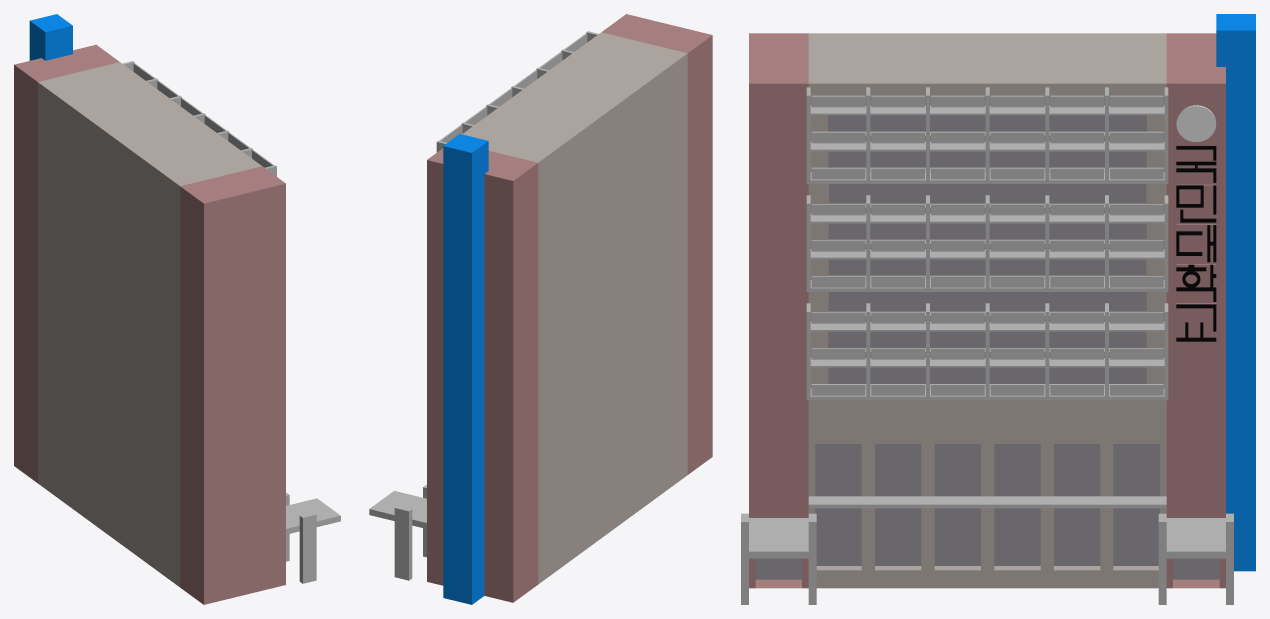
The model's file is bookAkfixed.fbx.
The picture shows the model from 3 angles, left to right: view 1: azimuth 30°, elevation 25°; view 2: azimuth 150°, elevation 25°; view 3: azimuth 270°, elevation 25°; orthographic projection. The views are drawn at different scales.
Visible parts, largest first — view 1: Cube, Cube.008, Cube.001, Cube.002, Cube.010, Cube.011, Cube.014, Cube.009, Cube.013, Cube.012, Cube.015, Cube.137 (+2 smaller); view 2: Cube, Cube.002, Cube.137, Cube.009, Cube.008, Cube.001, Cube.014, Cube.010, Cube.011, Cube.012, Cube.013, Cube.015 (+2 smaller); view 3: Cube, Cube.008, Cube.137, Cube.002, Cube.013, Cube.011, Cube.012, Cube.014, Cube.010, Cube.015, Cube.001, Cube.009 (+34 smaller).
Part boxes in pixels (bbox=[...]): Cube: bbox=[38, 62, 261, 458]; Cube.008: bbox=[180, 166, 285, 475]; Cube.001: bbox=[180, 456, 285, 604]; Cube.002: bbox=[14, 44, 119, 354]; Cube.010: bbox=[156, 441, 180, 587]; Cube.011: bbox=[132, 424, 156, 569]; Cube.014: bbox=[61, 372, 85, 517]; Cube.009: bbox=[14, 337, 37, 483]; Cube.013: bbox=[85, 389, 108, 534]; Cube.012: bbox=[109, 407, 132, 552]; Cube.015: bbox=[38, 355, 61, 500]; Cube.137: bbox=[29, 14, 72, 60]; Cube: bbox=[462, 32, 687, 448]; Cube.002: bbox=[427, 148, 538, 466]; Cube.137: bbox=[443, 134, 488, 604]; Cube.009: bbox=[427, 446, 538, 602]; Cube.008: bbox=[602, 14, 712, 339]; Cube.001: bbox=[687, 321, 712, 474]; Cube.014: bbox=[563, 413, 587, 565]; Cube.010: bbox=[663, 340, 687, 492]; Cube.011: bbox=[638, 358, 662, 511]; Cube.012: bbox=[613, 376, 637, 529]; Cube.013: bbox=[588, 394, 612, 547]; Cube.015: bbox=[538, 431, 562, 584]; Cube: bbox=[808, 33, 1166, 425]; Cube.008: bbox=[749, 33, 808, 425]; Cube.137: bbox=[1216, 14, 1255, 571]; Cube.002: bbox=[1166, 33, 1225, 425]; Cube.013: bbox=[987, 426, 1047, 588]; Cube.011: bbox=[868, 426, 927, 588]; Cube.012: bbox=[928, 426, 987, 588]; Cube.014: bbox=[1047, 426, 1106, 588]; Cube.010: bbox=[808, 426, 868, 588]; Cube.015: bbox=[1107, 426, 1166, 588]; Cube.001: bbox=[749, 426, 808, 588]; Cube.009: bbox=[1166, 426, 1225, 588].
Bounding box in the file's own units: 10000 × 30000 × 25900.
